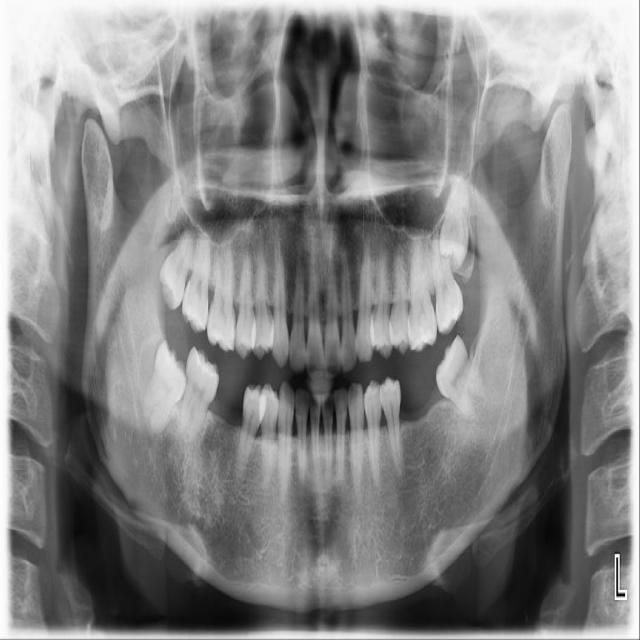Missing teeth: (399, 372, 449, 421), (208, 378, 248, 429)
impacted tooth: (142, 344, 188, 436), (438, 174, 470, 270)
